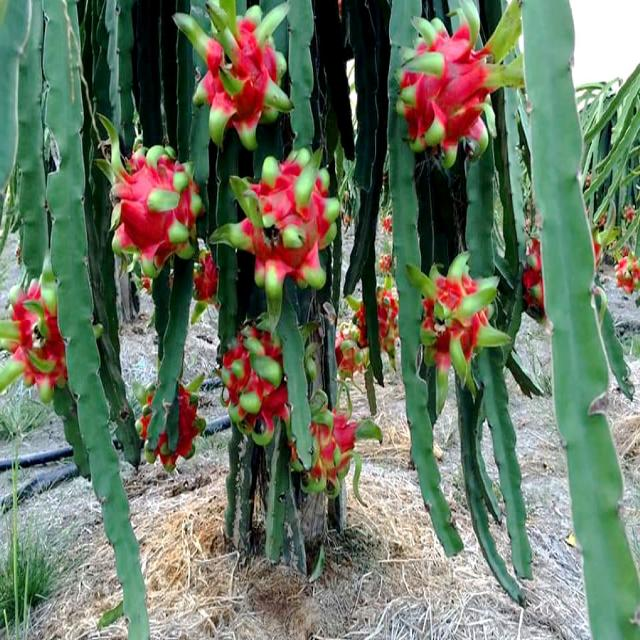Thanh Long: (221, 162, 343, 298), (398, 16, 509, 158), (190, 0, 284, 138), (114, 146, 201, 274), (417, 266, 503, 386), (8, 274, 80, 388), (223, 328, 296, 438), (287, 414, 378, 487), (134, 383, 208, 458), (352, 297, 400, 347), (326, 329, 371, 379), (529, 226, 548, 308), (190, 257, 218, 306), (614, 254, 640, 298), (378, 255, 392, 277), (382, 216, 393, 237)
